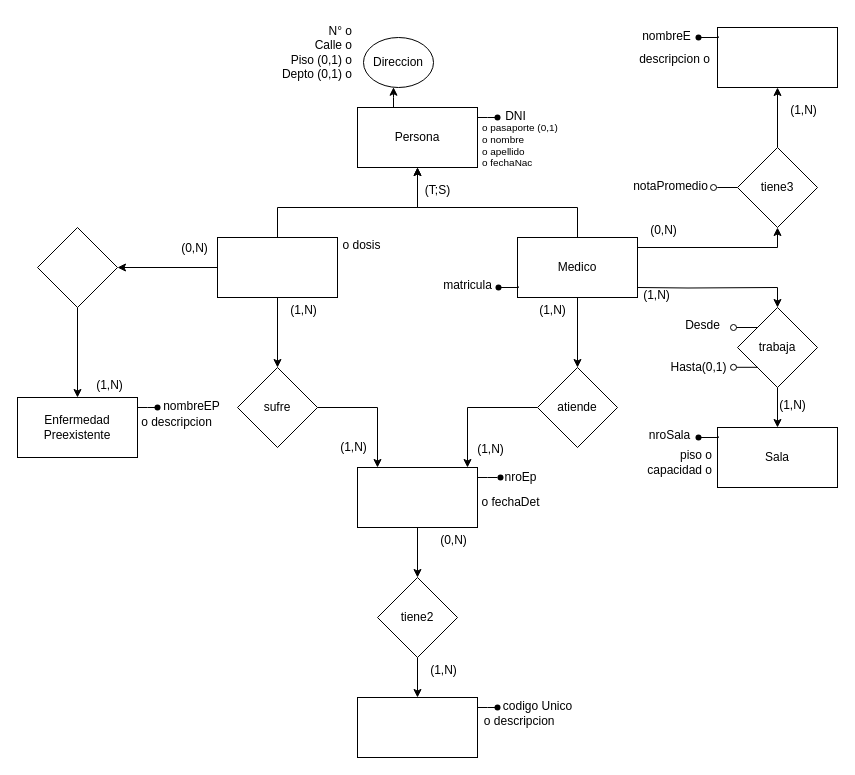
Image size: 855x775. Some labels were removed from this diagram. The shapes that lost their labels are listed below. From the top down, each one's centre as x and y in pixels, then its label:
At point 777,57: "Especialidad".
At point 77,267: "tiene".
At point 277,267: "Paciente".
At point 417,497: "Episodio".
At point 417,727: "Sintoma".
